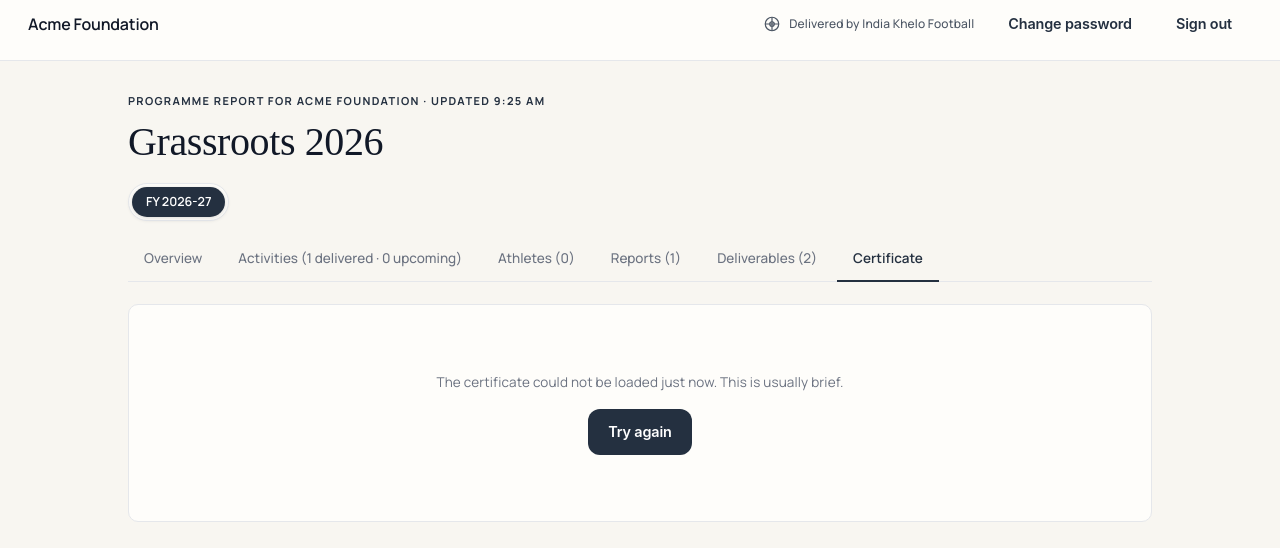
it: Try again re-fetches only the certificate and shows it once it loads
Click the button "Try again": (640, 432) [588,409,692,455]
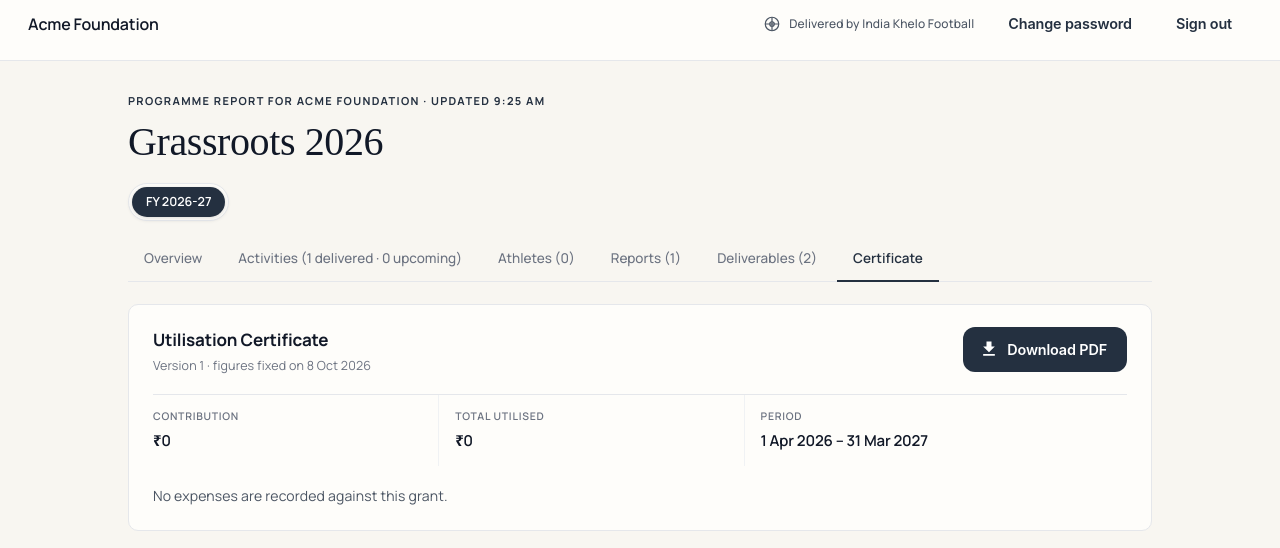
Expected: the heading "Utilisation Certificate" is shown, [153,328,328,350]
Expected: the text "could not be loaded" is gone
